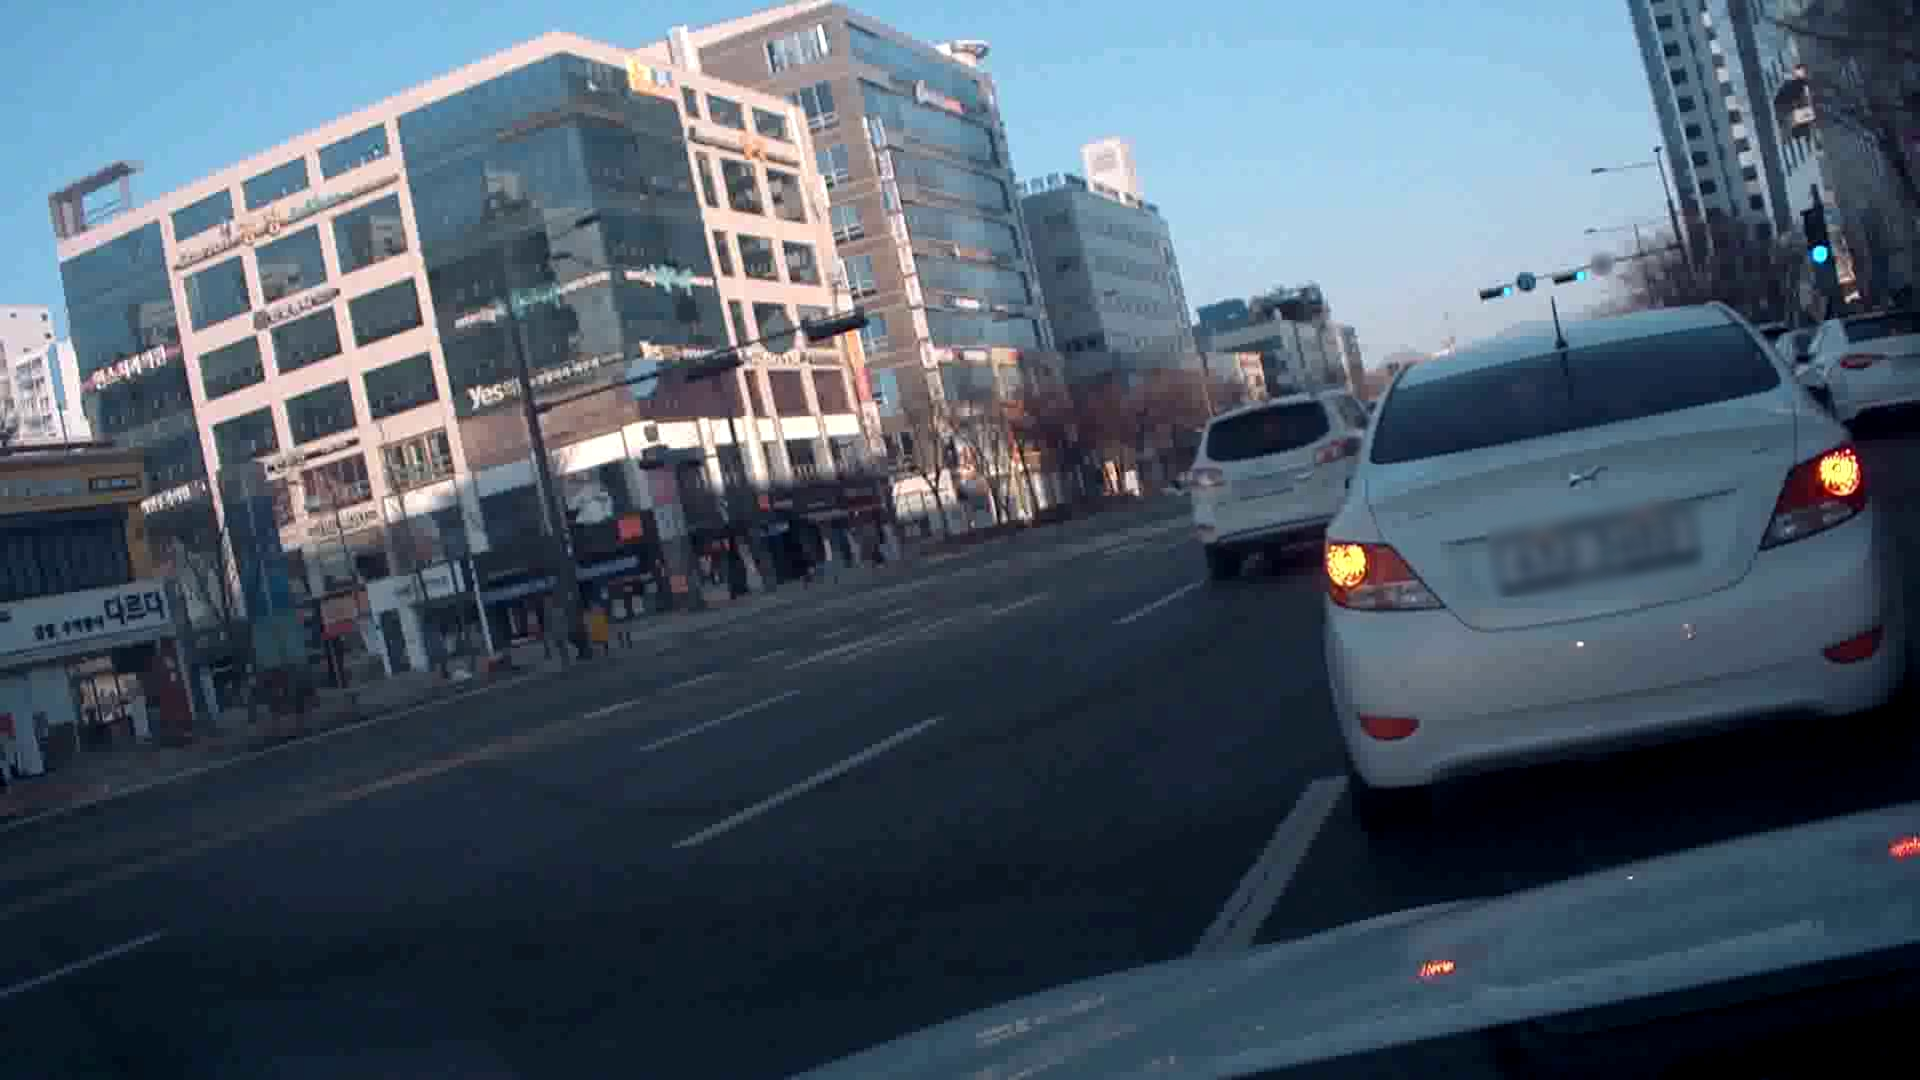trafficLight: (1474, 262, 1592, 303)
trafficLightBar: (1800, 196, 1844, 314)
